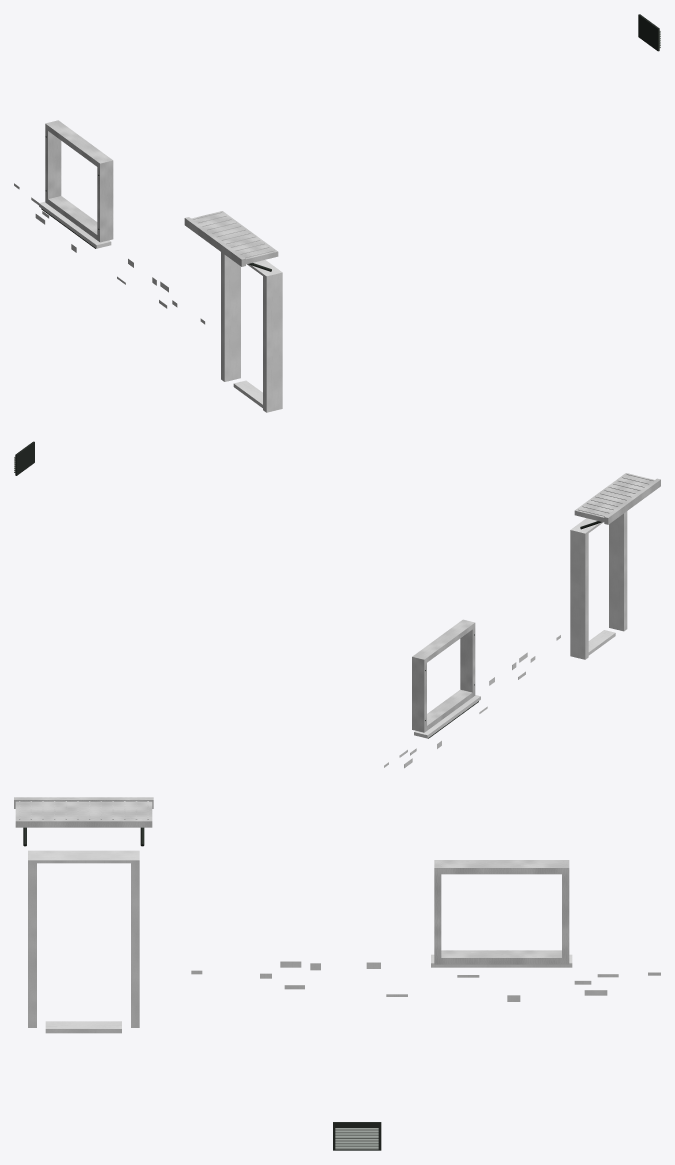
Rendered from SM_Homes_H01_Fixtures.glb.
3 renders of one model, top to bottom at view 1: azimuth 30°, elevation 25°; view 2: azimuth 150°, elevation 25°; view 3: azimuth 270°, elevation 25°, orthographic. The views are drawn at different scales.
Parts seen in each view (by area): view 1: SM_Homes_H01_Fixtures; view 2: SM_Homes_H01_Fixtures; view 3: SM_Homes_H01_Fixtures.
Part boxes in pixels (<box>): SM_Homes_H01_Fixtures: <box>14,14,660,412</box>; SM_Homes_H01_Fixtures: <box>14,441,660,768</box>; SM_Homes_H01_Fixtures: <box>14,797,660,1150</box>.
Size of the model in its own units: 9.71 by 2.88 by 8.05.
Materials: 6 (4 with a texture image).
